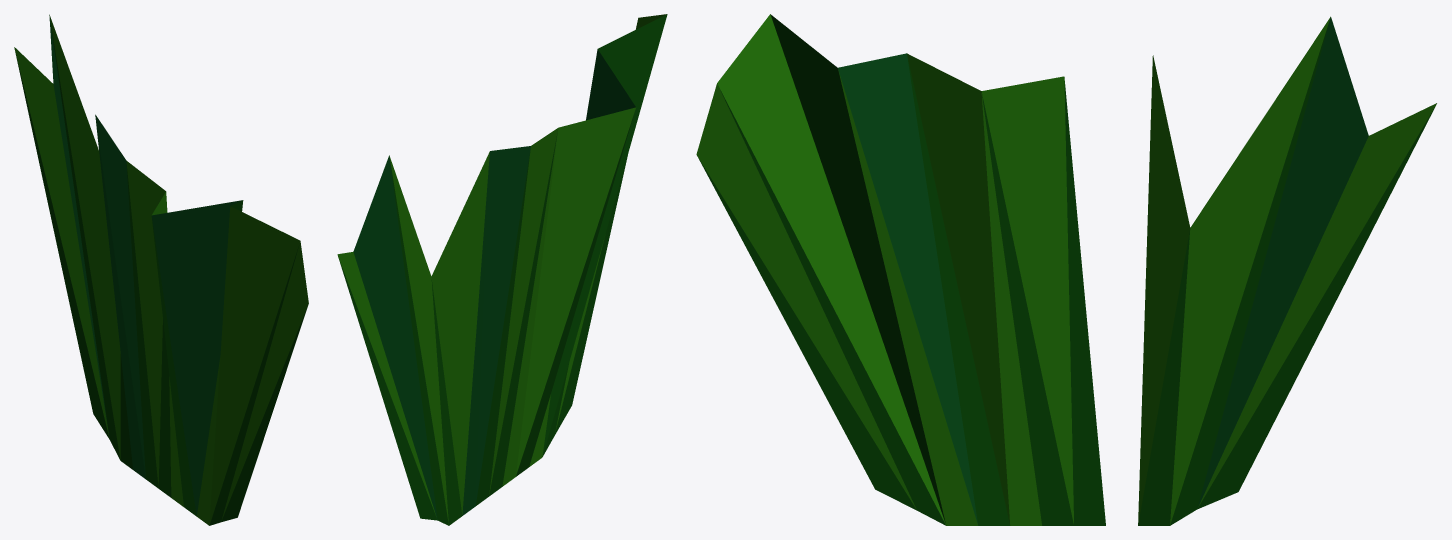
File: grass.fbx
3 renders of one model, left to right at view 1: azimuth 30°, elevation 25°; view 2: azimuth 150°, elevation 25°; view 3: azimuth 270°, elevation 25°, orthographic. The views are drawn at different scales.
Parts seen in each view (by area): view 1: Plane; view 2: Plane; view 3: Plane.
Boxes of the visible parts, <box> form: Plane: <box>14,14,308,525</box>; Plane: <box>337,14,667,525</box>; Plane: <box>696,14,1436,525</box>.
Bounding box in the file's own units: 123 × 554 × 737.
